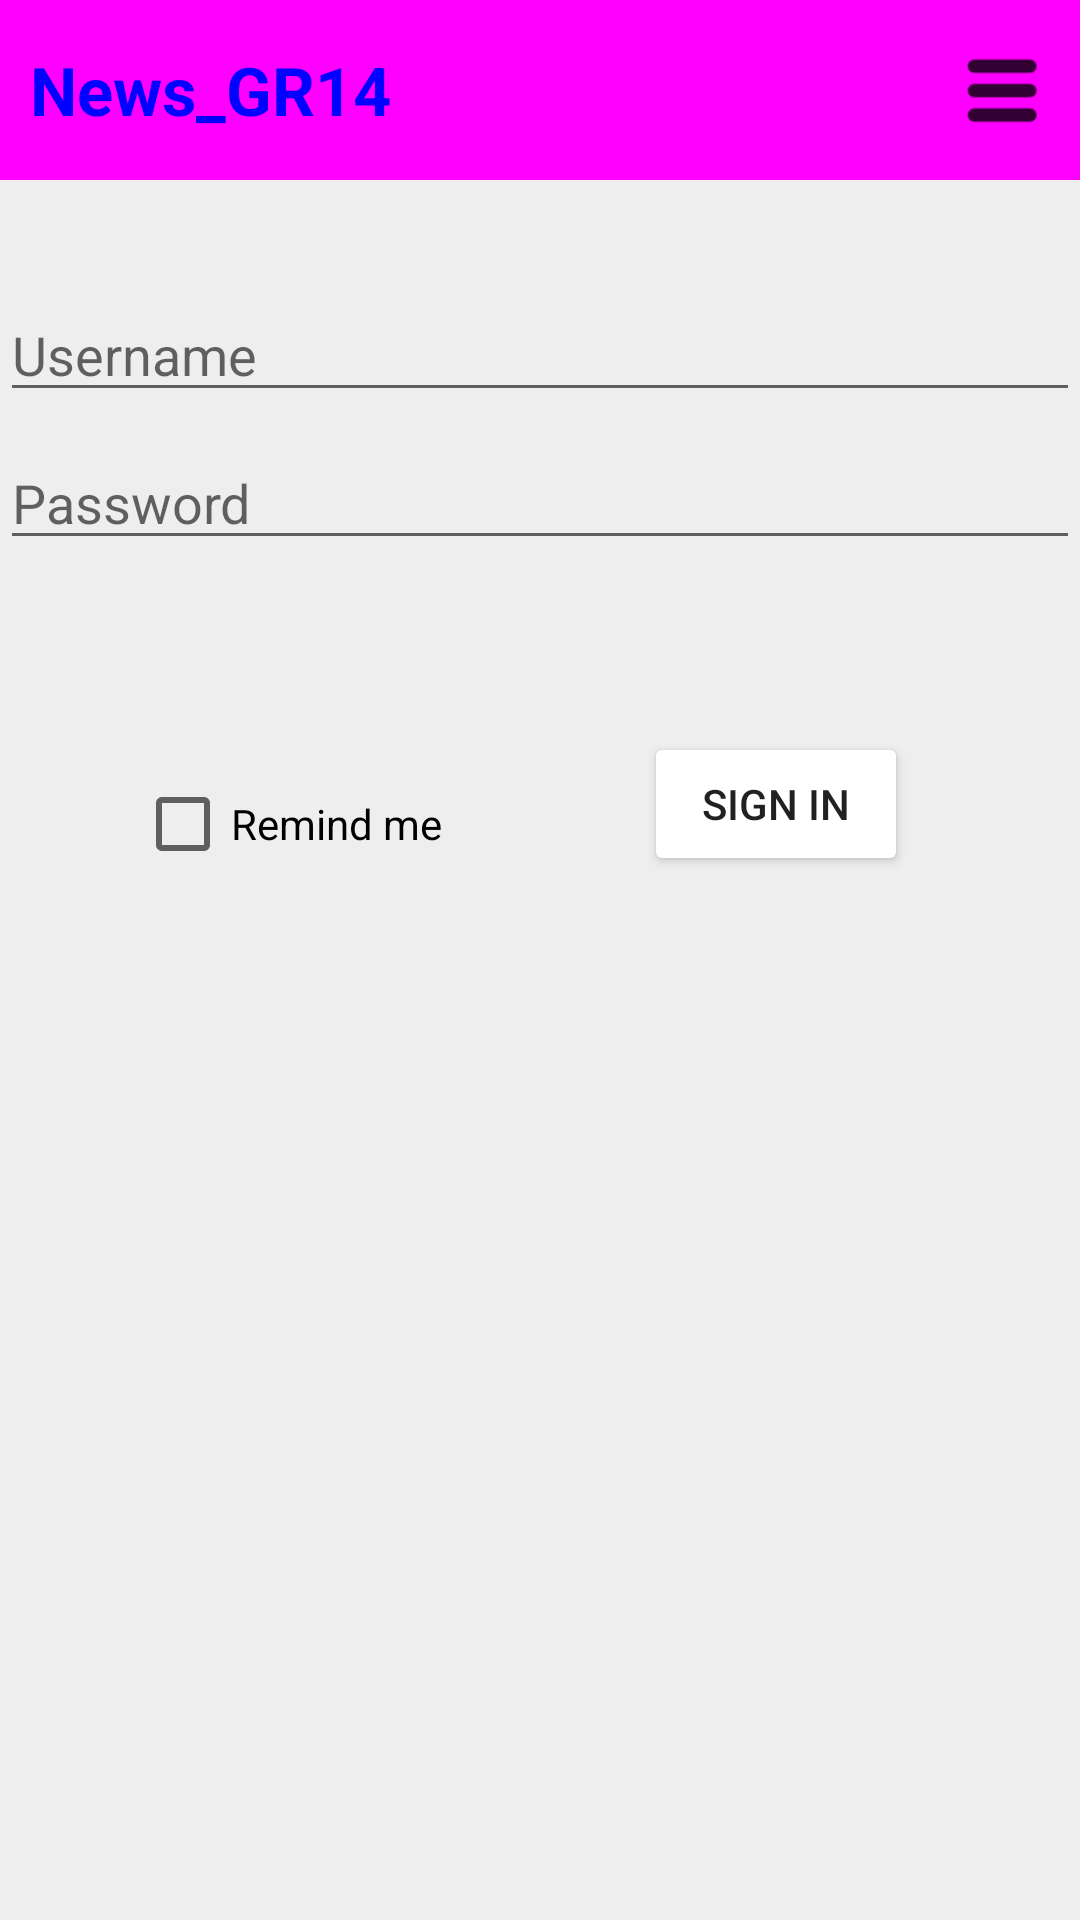

Point at icon controls on the screen. Image size 1080px×1920px, points as (x=x, y=y).
burger: (x=1002, y=91)
